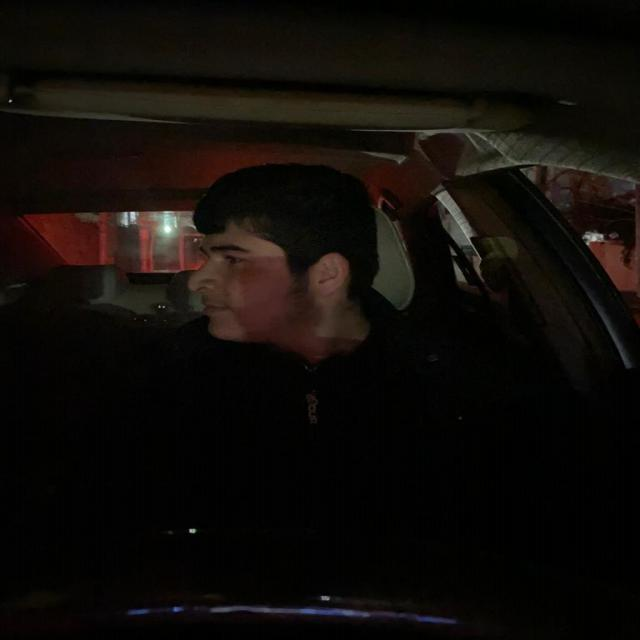LeftRight: (180, 160, 386, 355)
